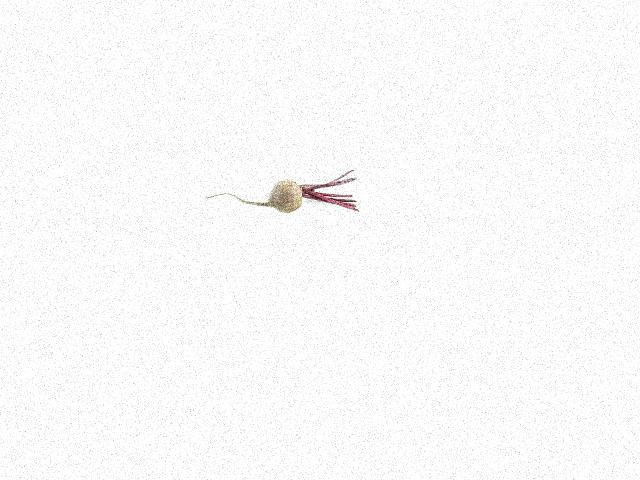beet: (204, 171, 358, 212)
